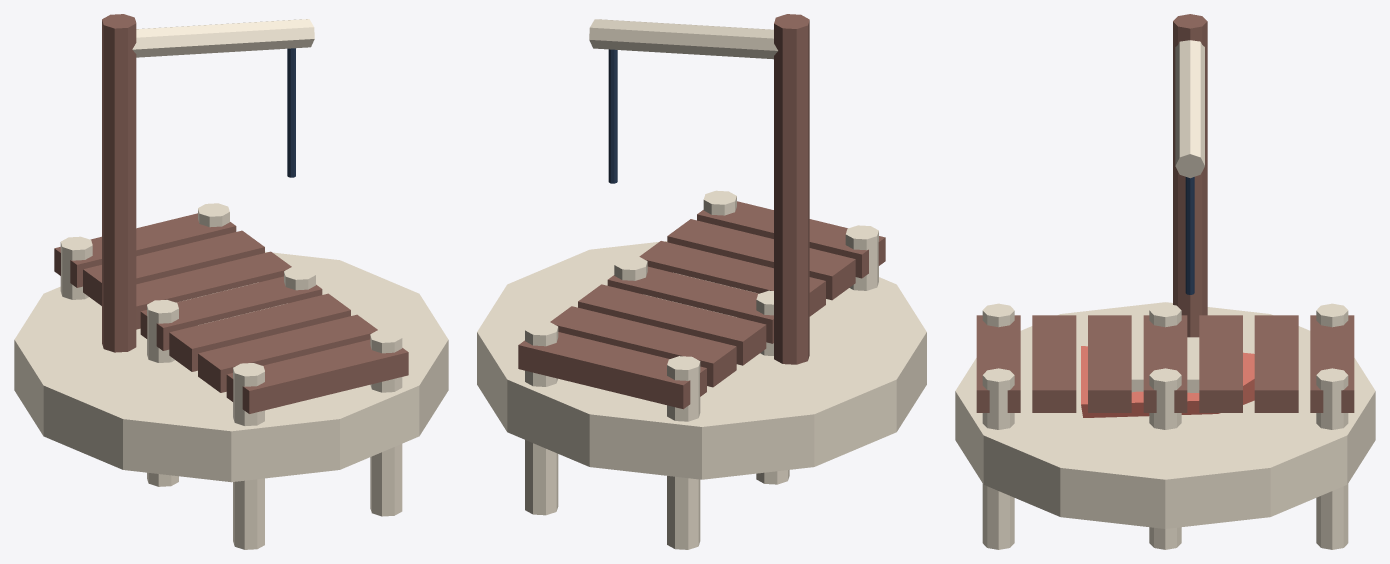
The model's file is shipyard.glb.
3 renders of one model, left to right at view 1: azimuth 30°, elevation 25°; view 2: azimuth 150°, elevation 25°; view 3: azimuth 270°, elevation 25°, orthographic. The views are drawn at different scales.
Visible parts, largest first — view 1: Building foundation, Crane mast, Quay plank, Quay plank.002, Crane arm, Quay plank.001, Quay plank.003, Quay plank.004, Quay plank.005, Stilt, Stilt.003, Quay plank.006 (+5 smaller); view 2: Building foundation, Crane mast, Quay plank.006, Quay plank.004, Crane arm, Quay plank.005, Quay plank.001, Quay plank.002, Quay plank.003, Stilt.002, Quay plank, Stilt.005 (+5 smaller); view 3: Building foundation, Crane mast, Quay plank.001, Quay plank.005, Quay plank.002, Quay plank.004, Crane arm, Stilt.003, Stilt.005, Quay plank, Quay plank.006, Quay plank.003 (+7 smaller).
Boxes of the visible parts, x1=… form: Building foundation: x1=14, y1=251, x2=448, y2=482; Crane mast: x1=102, y1=14, x2=136, y2=352; Quay plank: x1=226, y1=339, x2=408, y2=413; Quay plank.002: x1=169, y1=293, x2=350, y2=371; Crane arm: x1=132, y1=19, x2=314, y2=57; Quay plank.001: x1=198, y1=314, x2=377, y2=392; Quay plank.003: x1=140, y1=276, x2=322, y2=350; Quay plank.004: x1=136, y1=251, x2=291, y2=329; Quay plank.005: x1=83, y1=230, x2=264, y2=305; Stilt: x1=233, y1=363, x2=264, y2=549; Stilt.003: x1=370, y1=329, x2=402, y2=516; Quay plank.006: x1=54, y1=213, x2=236, y2=287; Building foundation: x1=477, y1=241, x2=926, y2=479; Crane mast: x1=774, y1=14, x2=809, y2=364; Quay plank.006: x1=518, y1=332, x2=706, y2=409; Quay plank.004: x1=578, y1=284, x2=766, y2=365; Crane arm: x1=589, y1=19, x2=777, y2=59; Quay plank.005: x1=550, y1=306, x2=736, y2=387; Quay plank.001: x1=667, y1=219, x2=855, y2=300; Quay plank.002: x1=639, y1=241, x2=825, y2=316; Quay plank.003: x1=607, y1=266, x2=773, y2=343; Stilt.002: x1=667, y1=356, x2=700, y2=549; Quay plank: x1=697, y1=201, x2=885, y2=278; Stilt.005: x1=525, y1=321, x2=558, y2=515; Building foundation: x1=955, y1=302, x2=1375, y2=528; Crane mast: x1=1173, y1=14, x2=1207, y2=337; Quay plank.001: x1=1032, y1=315, x2=1076, y2=412; Quay plank.005: x1=1254, y1=315, x2=1298, y2=412; Quay plank.002: x1=1088, y1=315, x2=1131, y2=412; Quay plank.004: x1=1199, y1=315, x2=1242, y2=412; Crane arm: x1=1175, y1=40, x2=1204, y2=178; Stilt.003: x1=982, y1=368, x2=1014, y2=549; Stilt.005: x1=1316, y1=368, x2=1348, y2=549; Quay plank: x1=976, y1=315, x2=1020, y2=412; Quay plank.006: x1=1310, y1=315, x2=1354, y2=412; Quay plank.003: x1=1143, y1=315, x2=1187, y2=412.
Bounding box in the file's own units: 0.085 × 0.0988 × 0.085.
